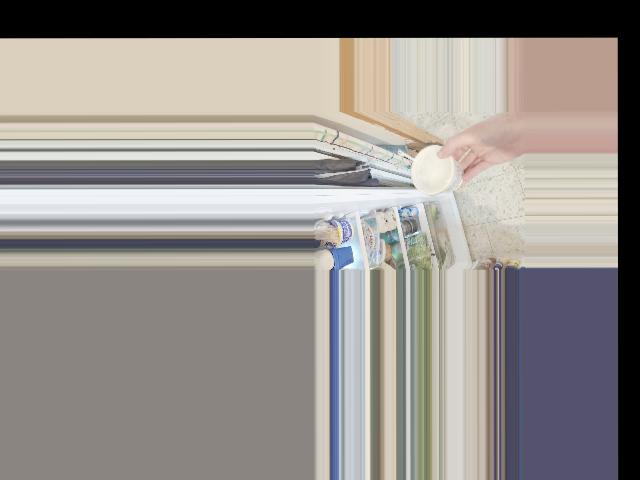cotage: (405, 150, 456, 194)
